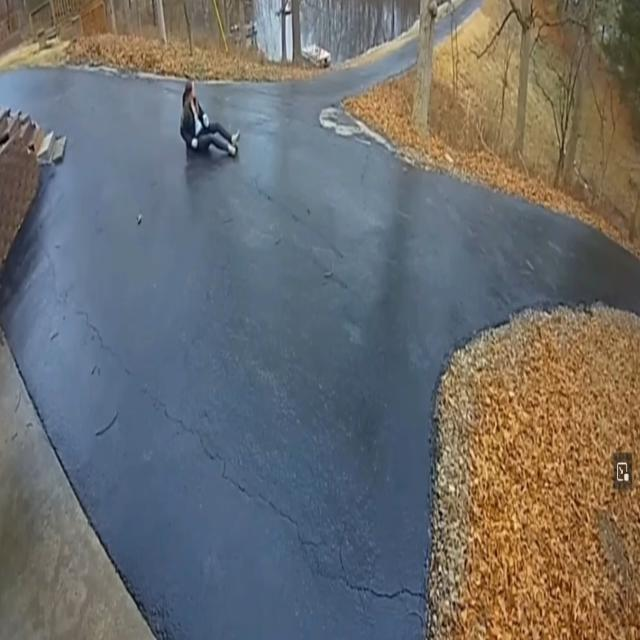fallen: (180, 82, 239, 155)
